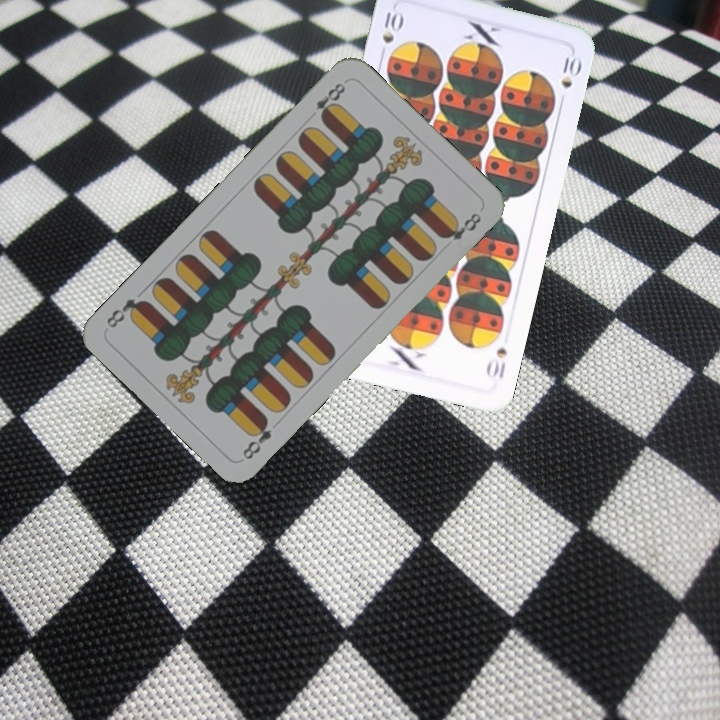E8: (238, 413, 275, 462), (311, 77, 349, 124)
S10: (482, 344, 510, 384), (378, 7, 405, 47)
